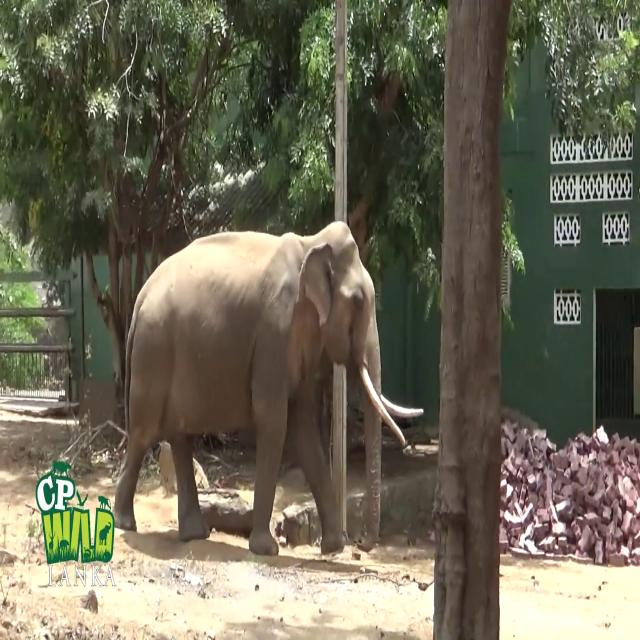Elephant: (112, 220, 422, 556)
